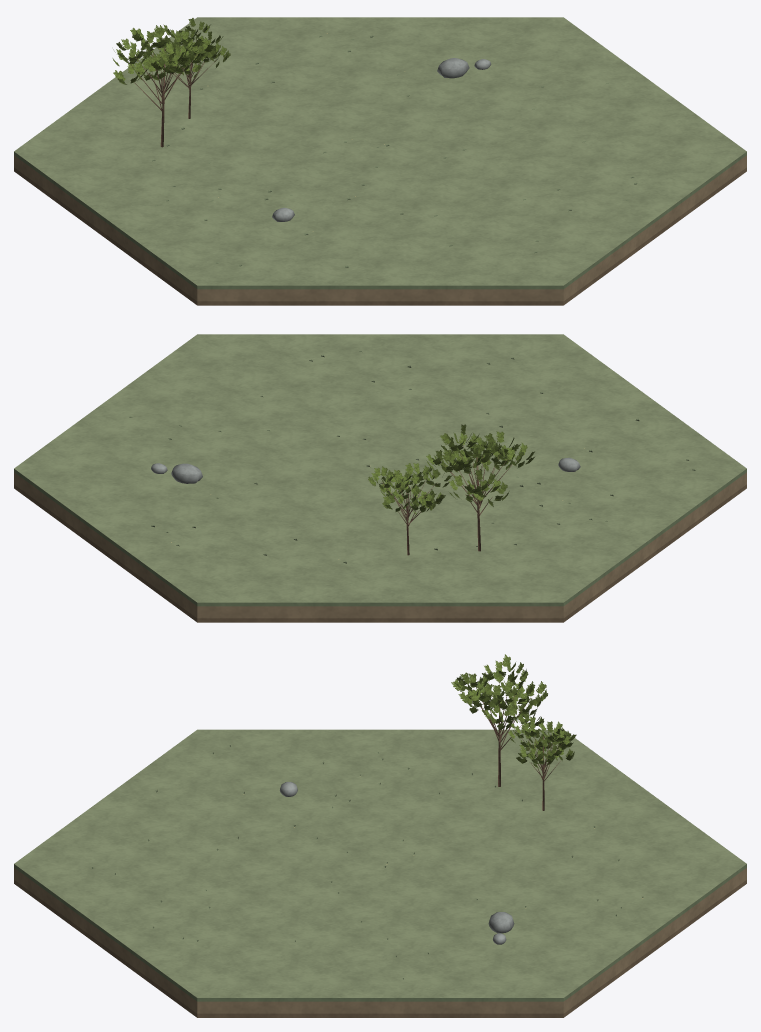
File: pradera.glb
3 renders of one model, top to bottom at view 1: azimuth 30°, elevation 25°; view 2: azimuth 150°, elevation 25°; view 3: azimuth 270°, elevation 25°, orthographic.
Parts seen in each view (by area): view 1: pradera.010 / 0, pradera.010 / 6, pradera.010 / 1, pradera.010 / 2; view 2: pradera.010 / 0, pradera.010 / 6, pradera.010 / 1, pradera.010 / 2; view 3: pradera.010 / 0, pradera.010 / 6, pradera.010 / 1, pradera.010 / 2.
Boxes of the visible parts, x1,y1,x2,y2 form: pradera.010 / 0: [14, 17, 746, 305]; pradera.010 / 6: [112, 18, 230, 84]; pradera.010 / 1: [128, 32, 216, 147]; pradera.010 / 2: [272, 58, 491, 221]; pradera.010 / 0: [14, 334, 746, 622]; pradera.010 / 6: [368, 424, 534, 514]; pradera.010 / 1: [381, 445, 515, 555]; pradera.010 / 2: [151, 457, 580, 483]; pradera.010 / 0: [14, 729, 746, 1017]; pradera.010 / 6: [451, 654, 576, 768]; pradera.010 / 1: [476, 680, 561, 810]; pradera.010 / 2: [279, 781, 514, 944].
Bounding box in the file's own units: 3.46 × 0.8428 × 4.
Materials: 4 (4 with a texture image).
